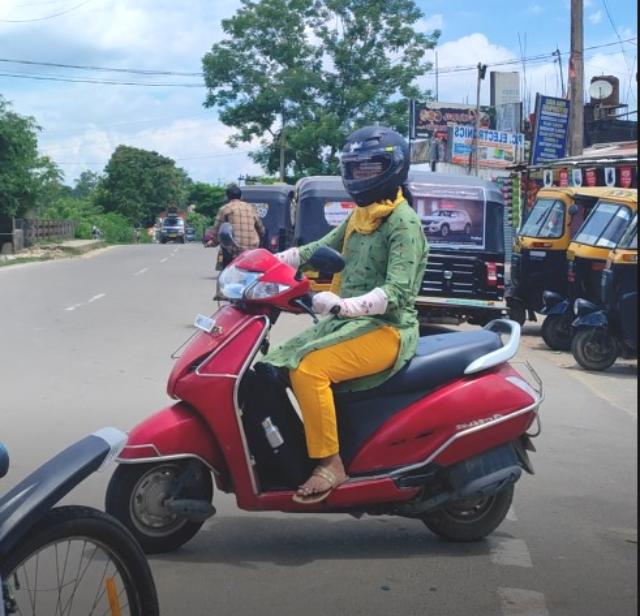licensePlate: (185, 316, 216, 333)
motorcycle: (98, 127, 541, 558)
withHelmet: (333, 128, 410, 207)
